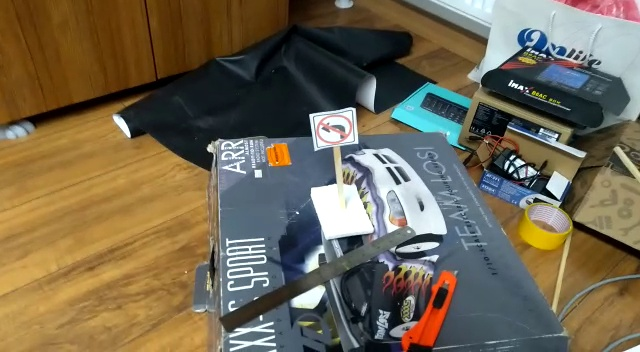sola_donulmez: (313, 110, 354, 148)
